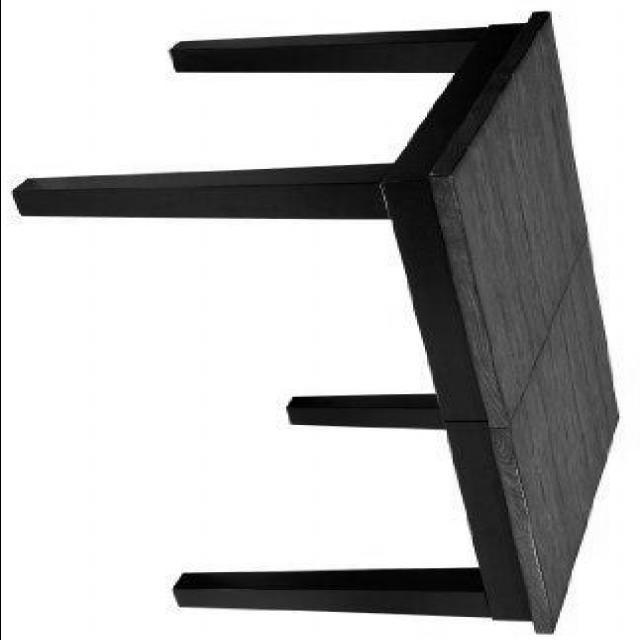table: (16, 10, 620, 636)
